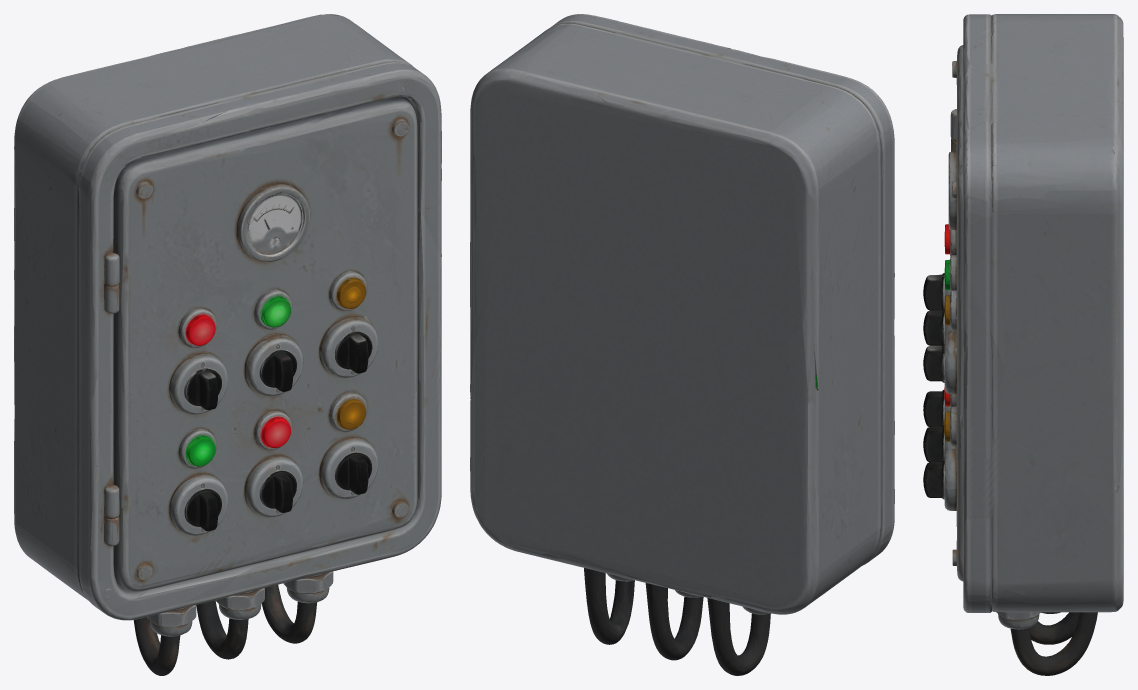
Rendered from quadro_elettrico.glb.
The picture shows the model from 3 angles, left to right: view 1: azimuth 30°, elevation 25°; view 2: azimuth 150°, elevation 25°; view 3: azimuth 270°, elevation 25°; orthographic projection. The views are drawn at different scales.
Visible parts, largest first — view 1: Mesh_0; view 2: Mesh_0; view 3: Mesh_0.
Part boxes in pixels (x1,y1,x2,y2): Mesh_0: (14,14,441,675); Mesh_0: (470,14,894,675); Mesh_0: (923,14,1123,675).
Size of the model in its own units: 1.19 by 1.9 by 0.6116.
Materials: 1 (1 with a texture image).
